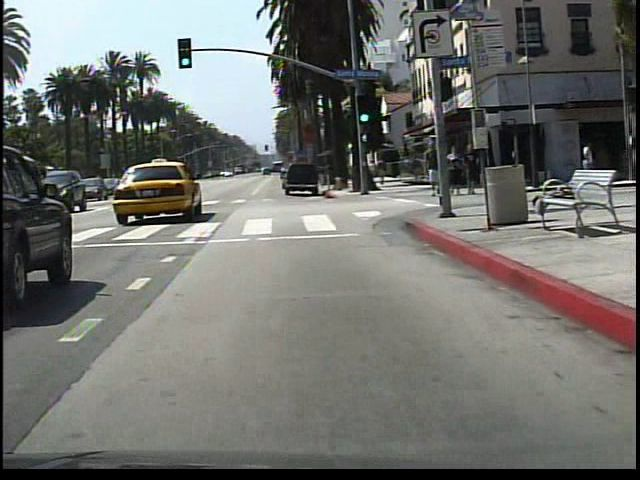person: (422, 141, 442, 200), (577, 137, 594, 185)
